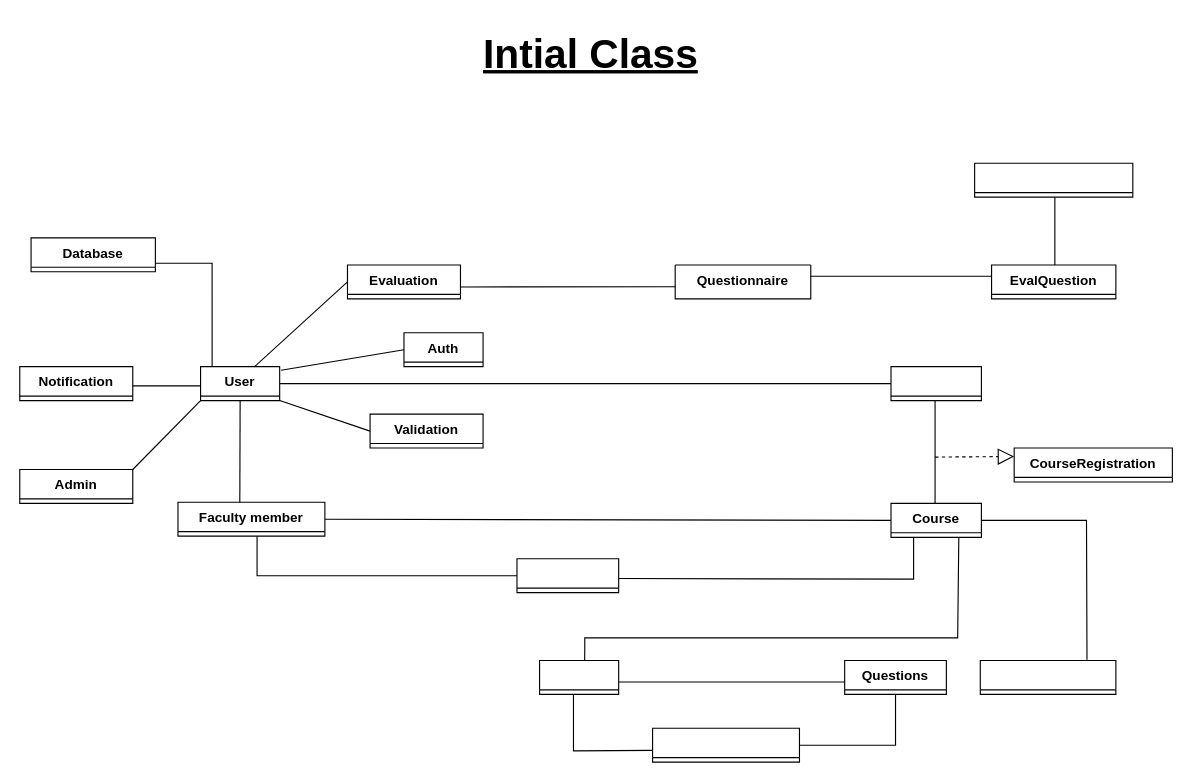
Image size: 1192x782. Some labels were removed from this diagram. Here are the shapes that lost their labels. From the top down, the centre of each, then its label:
At (1053,179): "QuestionResponse".
At (935,383): "Student".
At (567,575): "Schedule".
At (578,676): "Exam".
At (1047,676): "CourseVideos".
At (725,744): "StudentAnswers".
